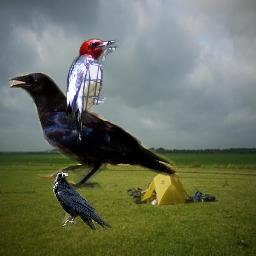Crow: (9, 72, 179, 190), (53, 172, 113, 230)
Woodpecker: (65, 38, 120, 145)
